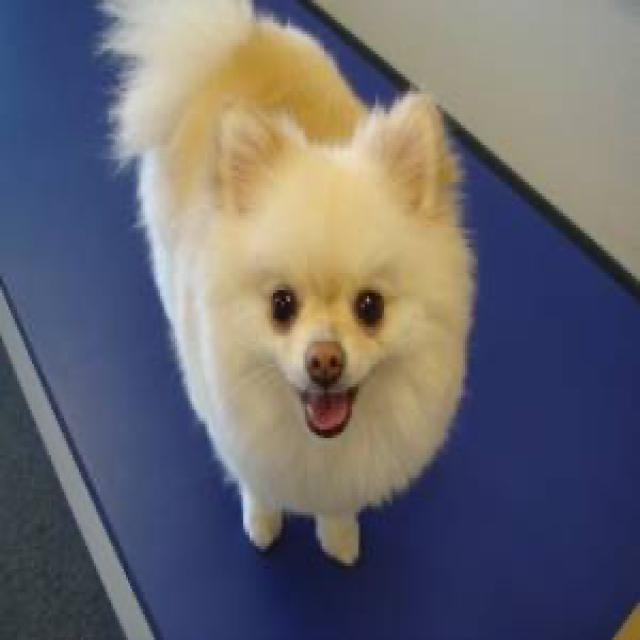dog: (215, 88, 446, 438)
